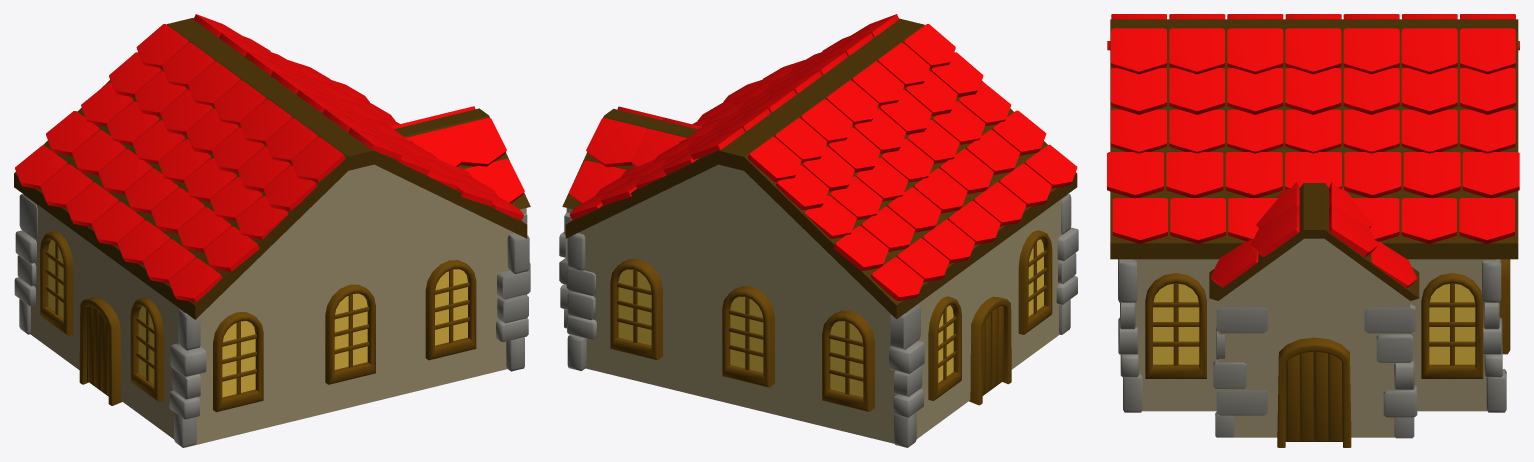
The model's file is House_Level2_RedTeam.fbx.
3 renders of one model, left to right at view 1: azimuth 30°, elevation 25°; view 2: azimuth 150°, elevation 25°; view 3: azimuth 270°, elevation 25°, orthographic. The views are drawn at different scales.
Visible parts, largest first — view 1: House_Level2_RedTeam; view 2: House_Level2_RedTeam; view 3: House_Level2_RedTeam.
Part boxes in pixels (x1=…): House_Level2_RedTeam: x1=14, y1=14, x2=530, y2=447; House_Level2_RedTeam: x1=559, y1=14, x2=1078, y2=447; House_Level2_RedTeam: x1=1107, y1=14, x2=1519, y2=447.
Size of the model in its own units: 1998 by 1282 by 1583.
